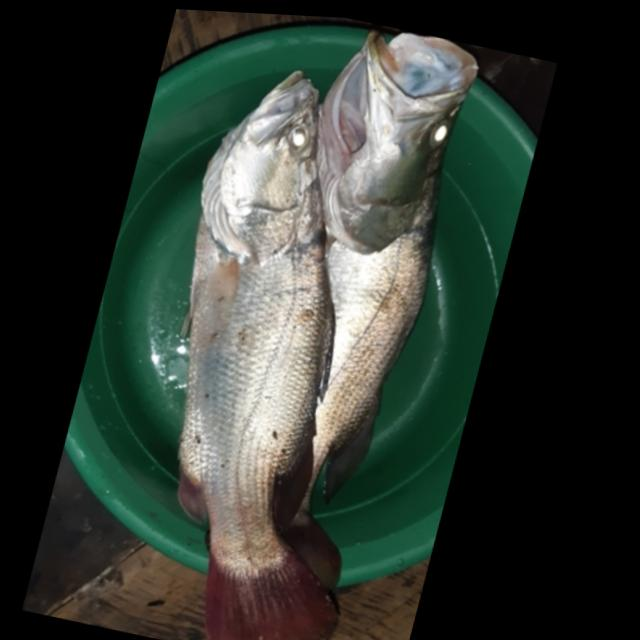Seabass: (87, 53, 473, 640), (201, 13, 492, 598)
